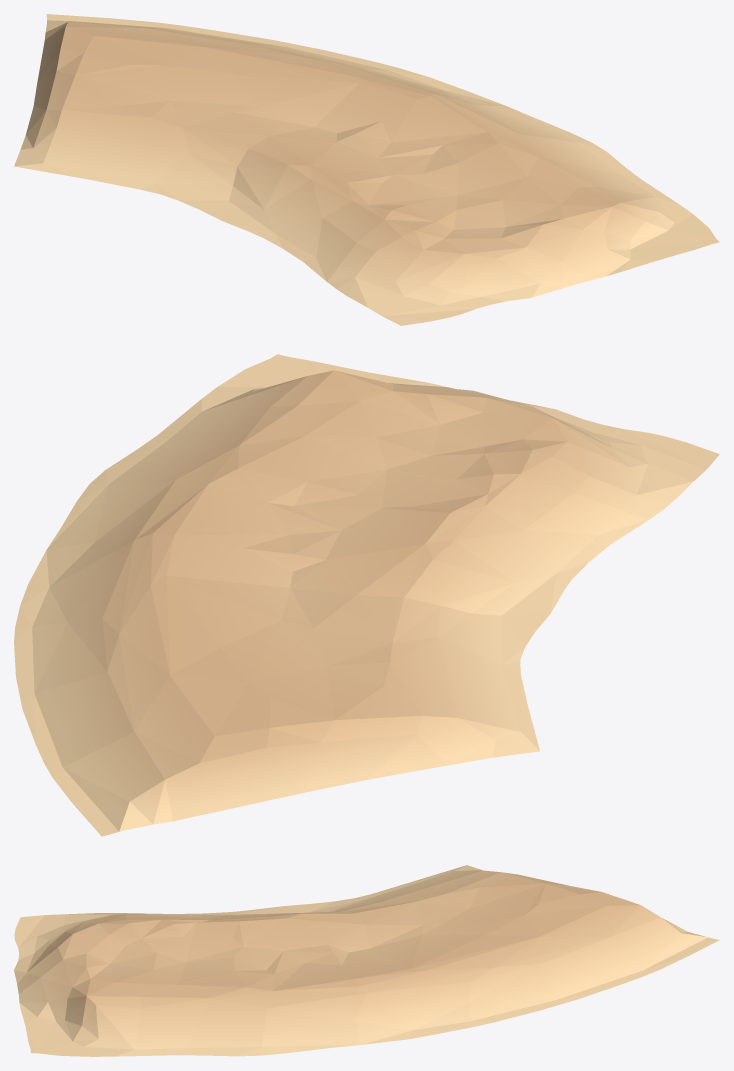
Rendered from Ground Curve 8 M.glb.
The picture shows the model from 3 angles, top to bottom: view 1: azimuth 30°, elevation 25°; view 2: azimuth 150°, elevation 25°; view 3: azimuth 270°, elevation 25°; orthographic projection. The views are drawn at different scales.
Visible parts, largest first — view 1: Ground Curve 8 M; view 2: Ground Curve 8 M; view 3: Ground Curve 8 M.
Boxes of the visible parts, x1,y1,x2,y2 form: Ground Curve 8 M: (14, 14, 719, 325); Ground Curve 8 M: (14, 354, 719, 836); Ground Curve 8 M: (14, 865, 719, 1056).
Size of what is drawn, in the model's own units: 5.54 by 0.3786 by 8.6.
1 material, 1 textured.
